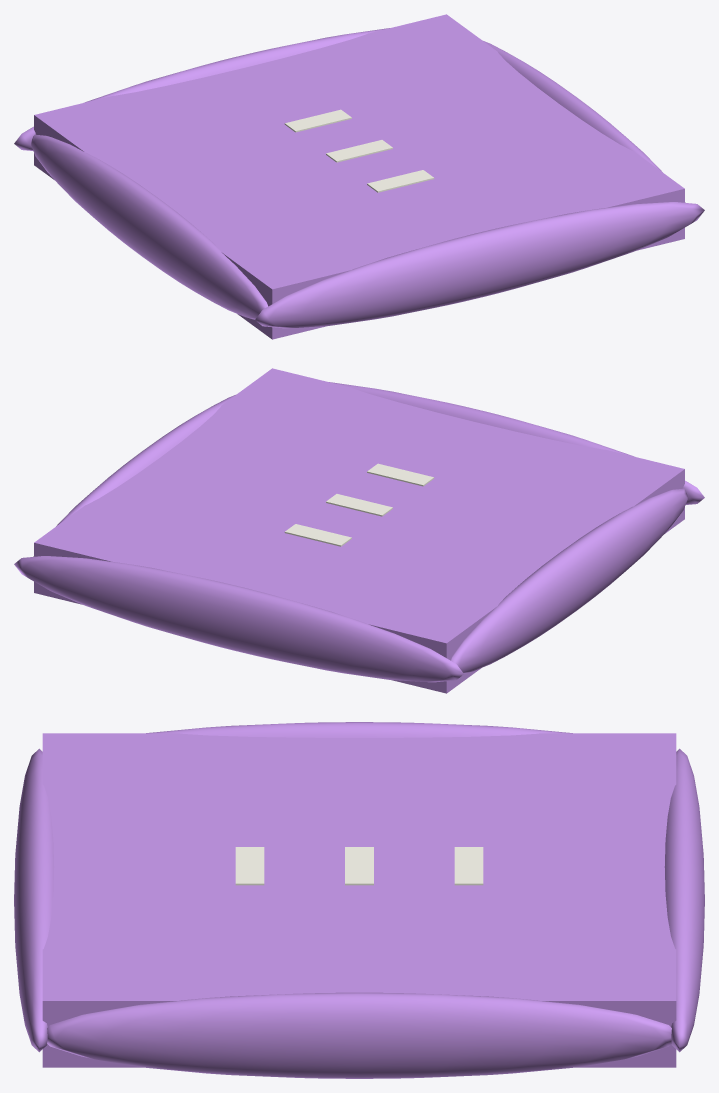
The model's file is course_finish.glb.
The picture shows the model from 3 angles, top to bottom: view 1: azimuth 30°, elevation 25°; view 2: azimuth 150°, elevation 25°; view 3: azimuth 270°, elevation 25°; orthographic projection. The views are drawn at different scales.
Visible parts, largest first — view 1: flat inflatable deck, seamed rim (×4), route stripe (×3); view 2: flat inflatable deck, seamed rim (×4), route stripe (×3); view 3: flat inflatable deck, seamed rim (×4), route stripe (×3).
Boxes of the visible parts, x1,y1,x2,y2 form: flat inflatable deck: (34,14,684,339); seamed rim (×4): (14,28,704,328); route stripe (×3): (284,109,434,192); flat inflatable deck: (34,368,684,693); seamed rim (×4): (14,382,704,682); route stripe (×3): (284,463,434,546); flat inflatable deck: (42,733,676,1067); seamed rim (×4): (14,722,704,1078); route stripe (×3): (235,847,483,885).
Bounding box in the file's own units: 6 × 0.8 × 6.
